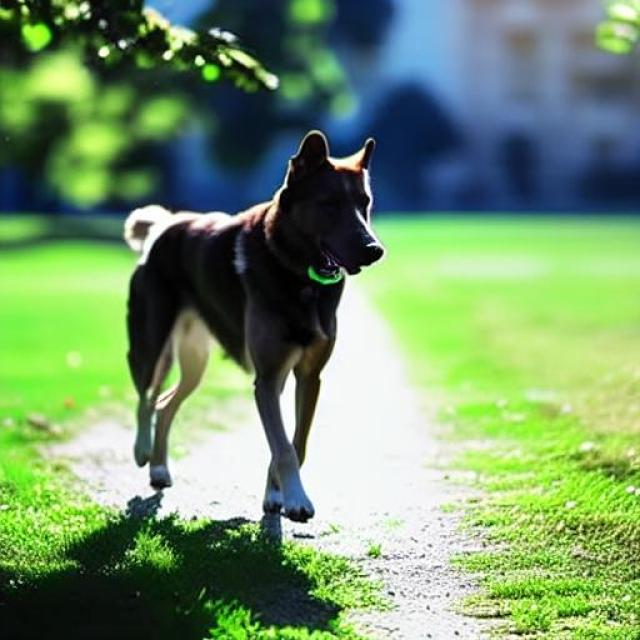Dog: (123, 129, 385, 520)
